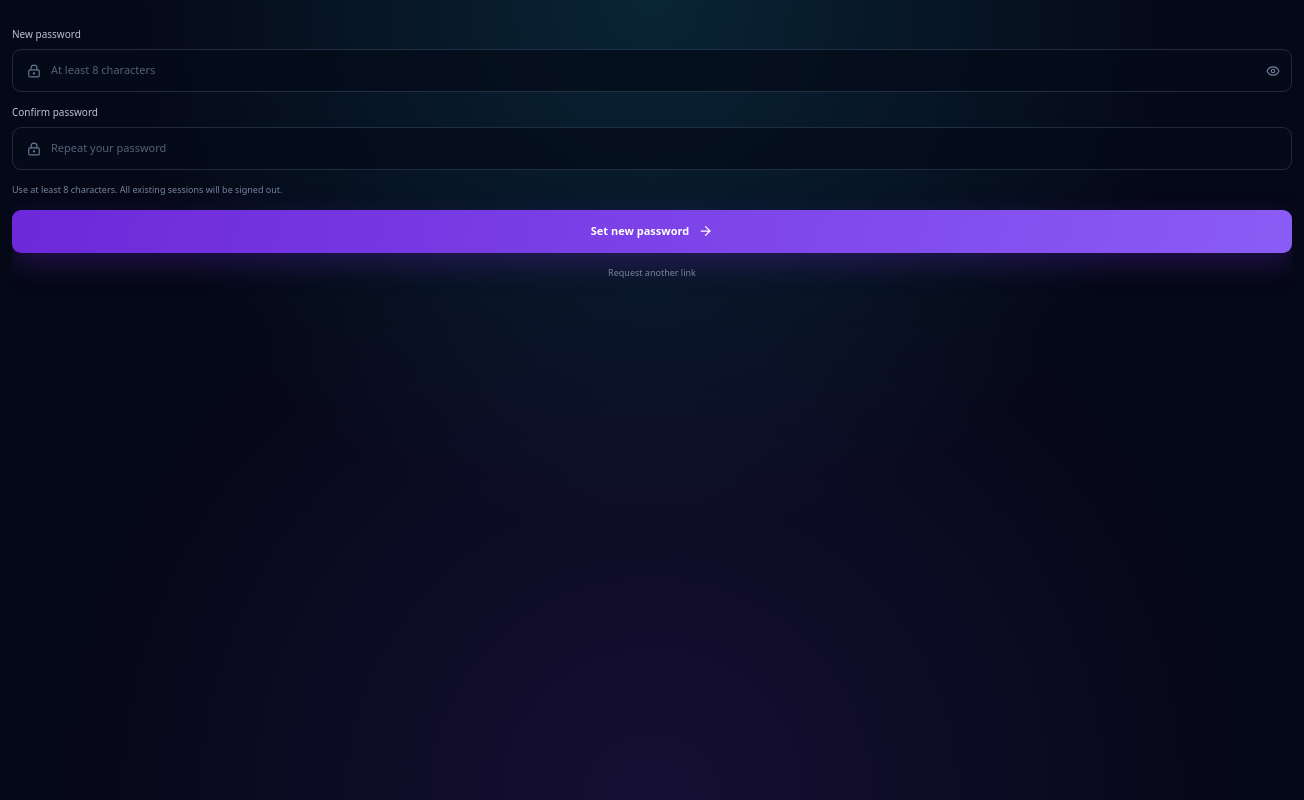
Test: reset password link › replaces the form with a sign-in link after a successful reset
Type "new-password" into the password field labelled "New password" at [655, 71], box [44,62,1266,79]
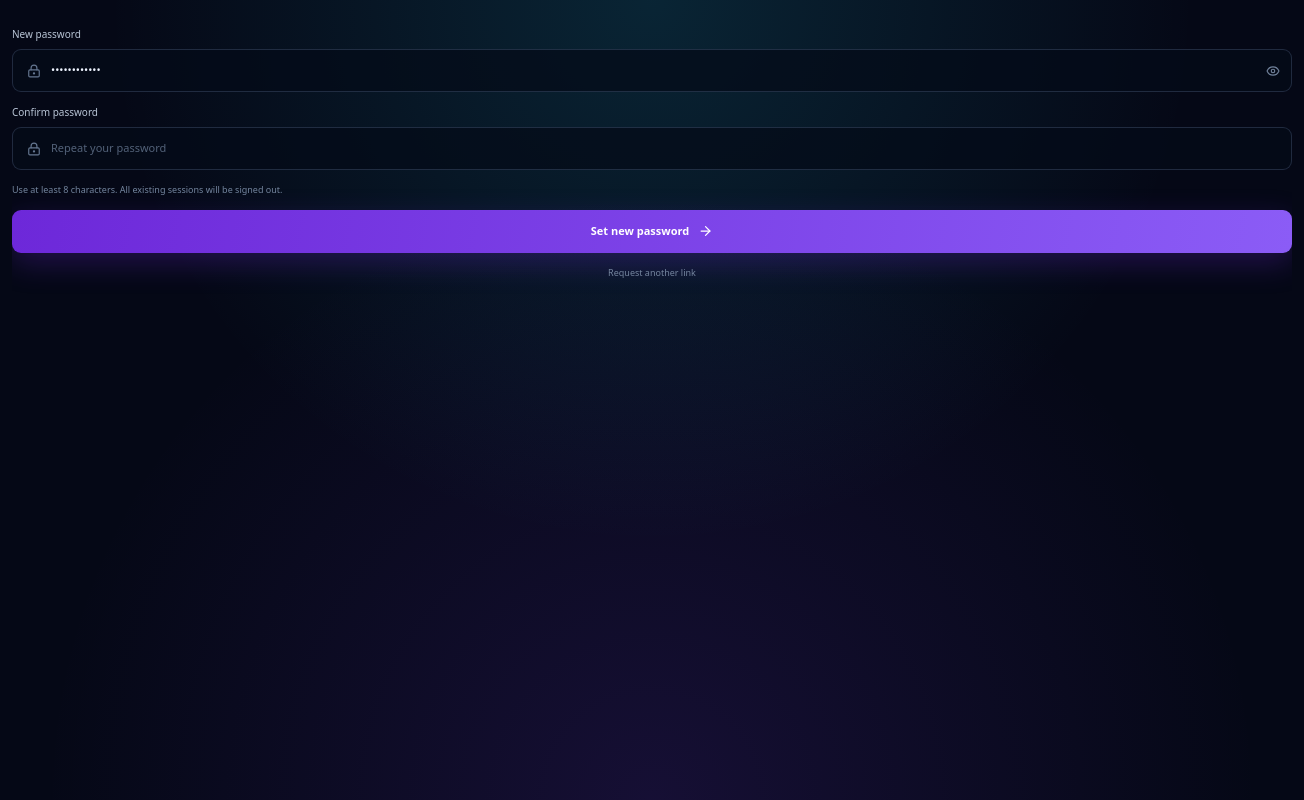
Type "new-password" into the password field labelled "Confirm password" at [662, 149], box [44,140,1280,157]
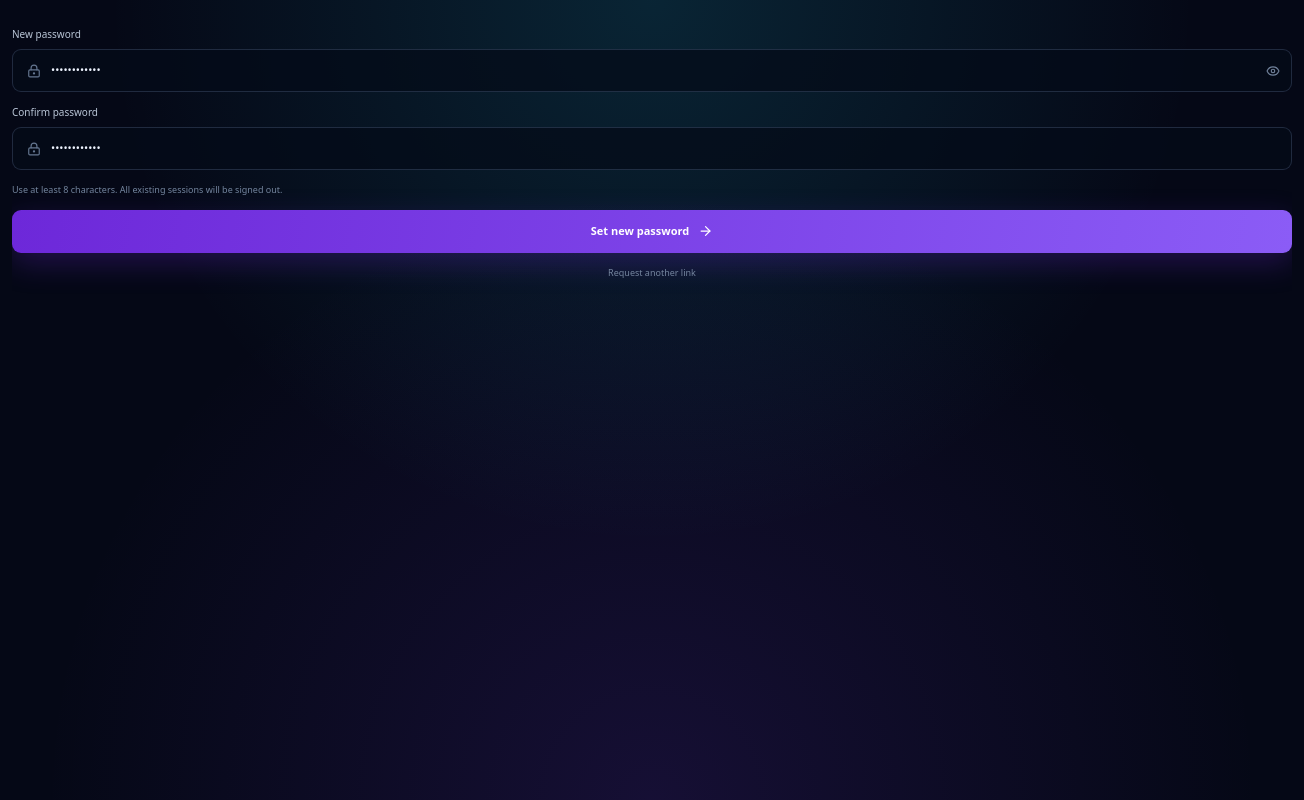
Click the button "Set new password" at [652, 231], box [12,210,1292,253]
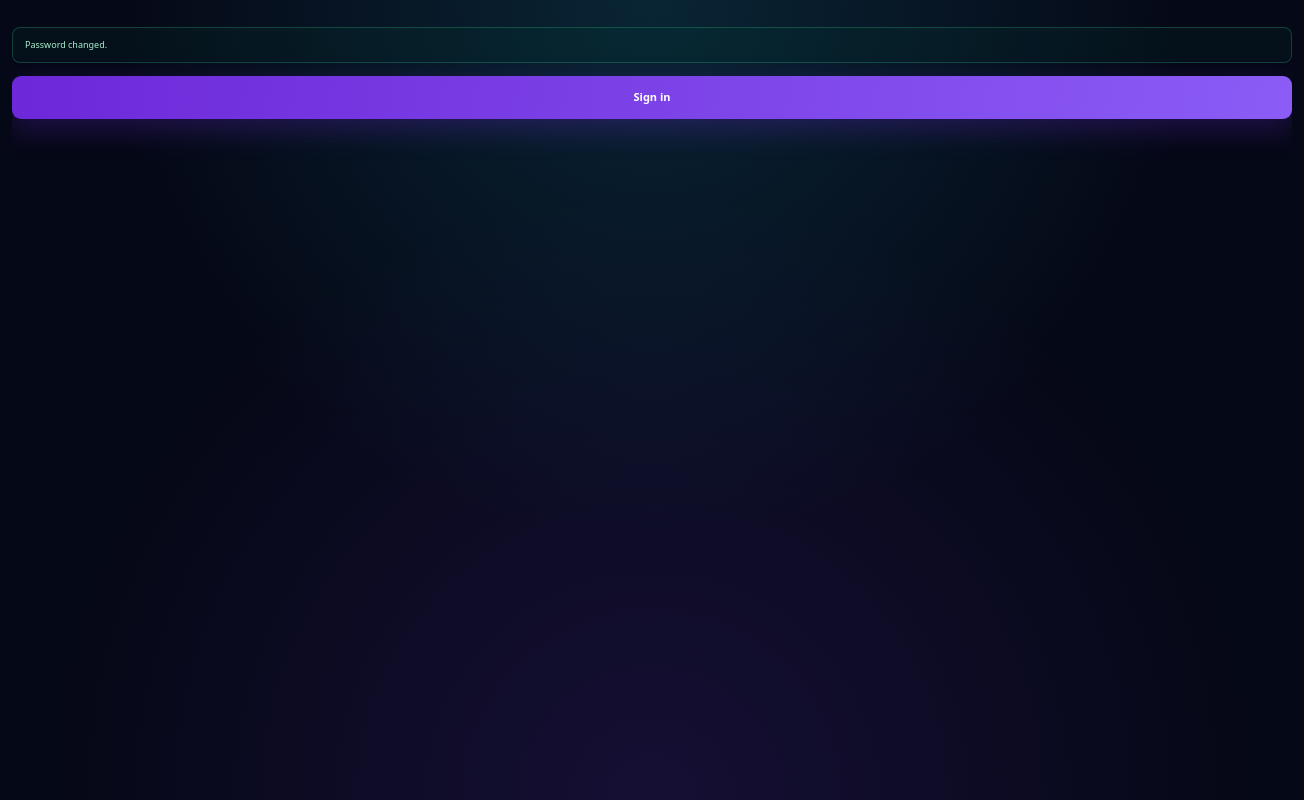
expect the link "Sign in" is shown: met, box [12,76,1292,118]
expect the text labelled "New password" is gone: met
